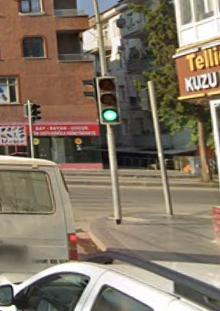greenlight: (96, 78, 117, 124)
